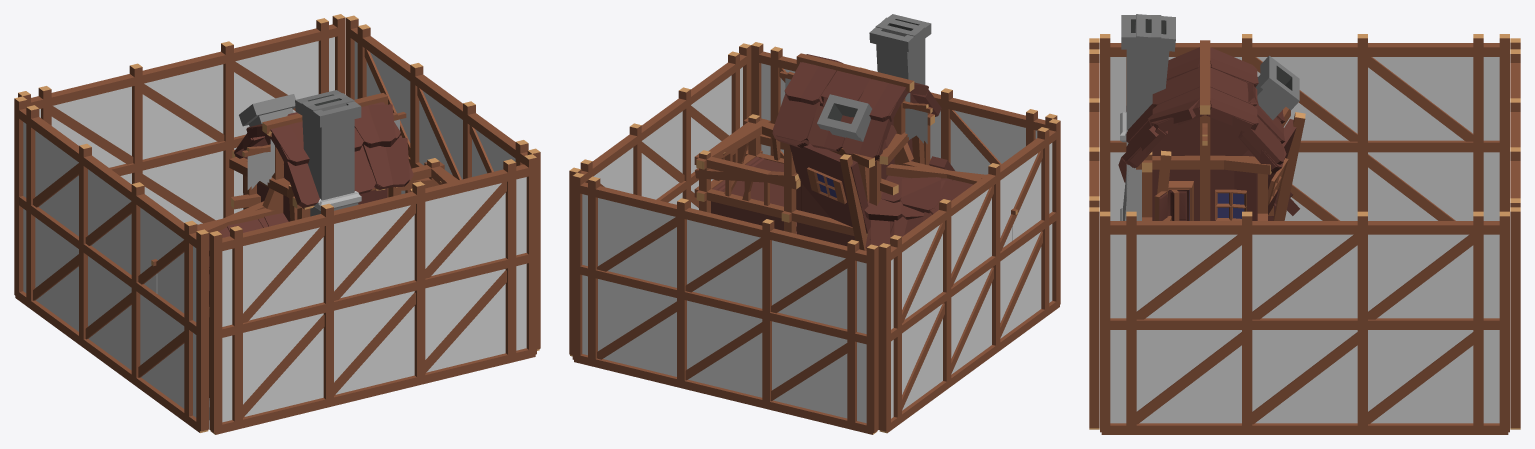
Rendered from House 2.fbx.
3 renders of one model, left to right at view 1: azimuth 30°, elevation 25°; view 2: azimuth 150°, elevation 25°; view 3: azimuth 270°, elevation 25°, orthographic. The views are drawn at different scales.
Parts seen in each view (by area): view 1: Scaffold, Destruction_phase_3, First_Floor, Roof, Destruction_phase_2, Carcass, Second_Floor, Flag_2; view 2: Scaffold, Destruction_phase_3, Destruction_phase_2, Carcass, Roof, First_Floor, Second_Floor, Flag_2; view 3: Scaffold, Destruction_phase_3, Destruction_phase_2, Roof, Second_Floor, Carcass, First_Floor, Destruction_phase_1.
Boxes of the visible parts, x1=… form: Scaffold: x1=14, y1=14, x2=540, y2=434; Destruction_phase_3: x1=197, y1=94, x2=454, y2=255; First_Floor: x1=301, y1=93, x2=361, y2=216; Roof: x1=209, y1=102, x2=413, y2=304; Destruction_phase_2: x1=197, y1=90, x2=438, y2=397; Carcass: x1=197, y1=94, x2=458, y2=395; Second_Floor: x1=257, y1=135, x2=387, y2=221; Flag_2: x1=247, y1=152, x2=267, y2=189; Scaffold: x1=569, y1=42, x2=1060, y2=434; Destruction_phase_3: x1=696, y1=54, x2=986, y2=250; Destruction_phase_2: x1=695, y1=17, x2=979, y2=248; Carcass: x1=694, y1=54, x2=981, y2=236; Roof: x1=773, y1=62, x2=956, y2=239; First_Floor: x1=711, y1=14, x2=931, y2=246; Second_Floor: x1=713, y1=93, x2=917, y2=217; Flag_2: x1=909, y1=108, x2=927, y2=143; Scaffold: x1=1089, y1=34, x2=1520, y2=434; Destruction_phase_3: x1=1118, y1=55, x2=1305, y2=220; Destruction_phase_2: x1=1123, y1=14, x2=1285, y2=220; Roof: x1=1126, y1=47, x2=1283, y2=204; Second_Floor: x1=1152, y1=117, x2=1257, y2=220; Carcass: x1=1136, y1=40, x2=1273, y2=220; First_Floor: x1=1120, y1=15, x2=1161, y2=220; Destruction_phase_1: x1=1154, y1=83, x2=1257, y2=220.
Bounding box in the file's own units: 4.11 × 3.28 × 4.1.
